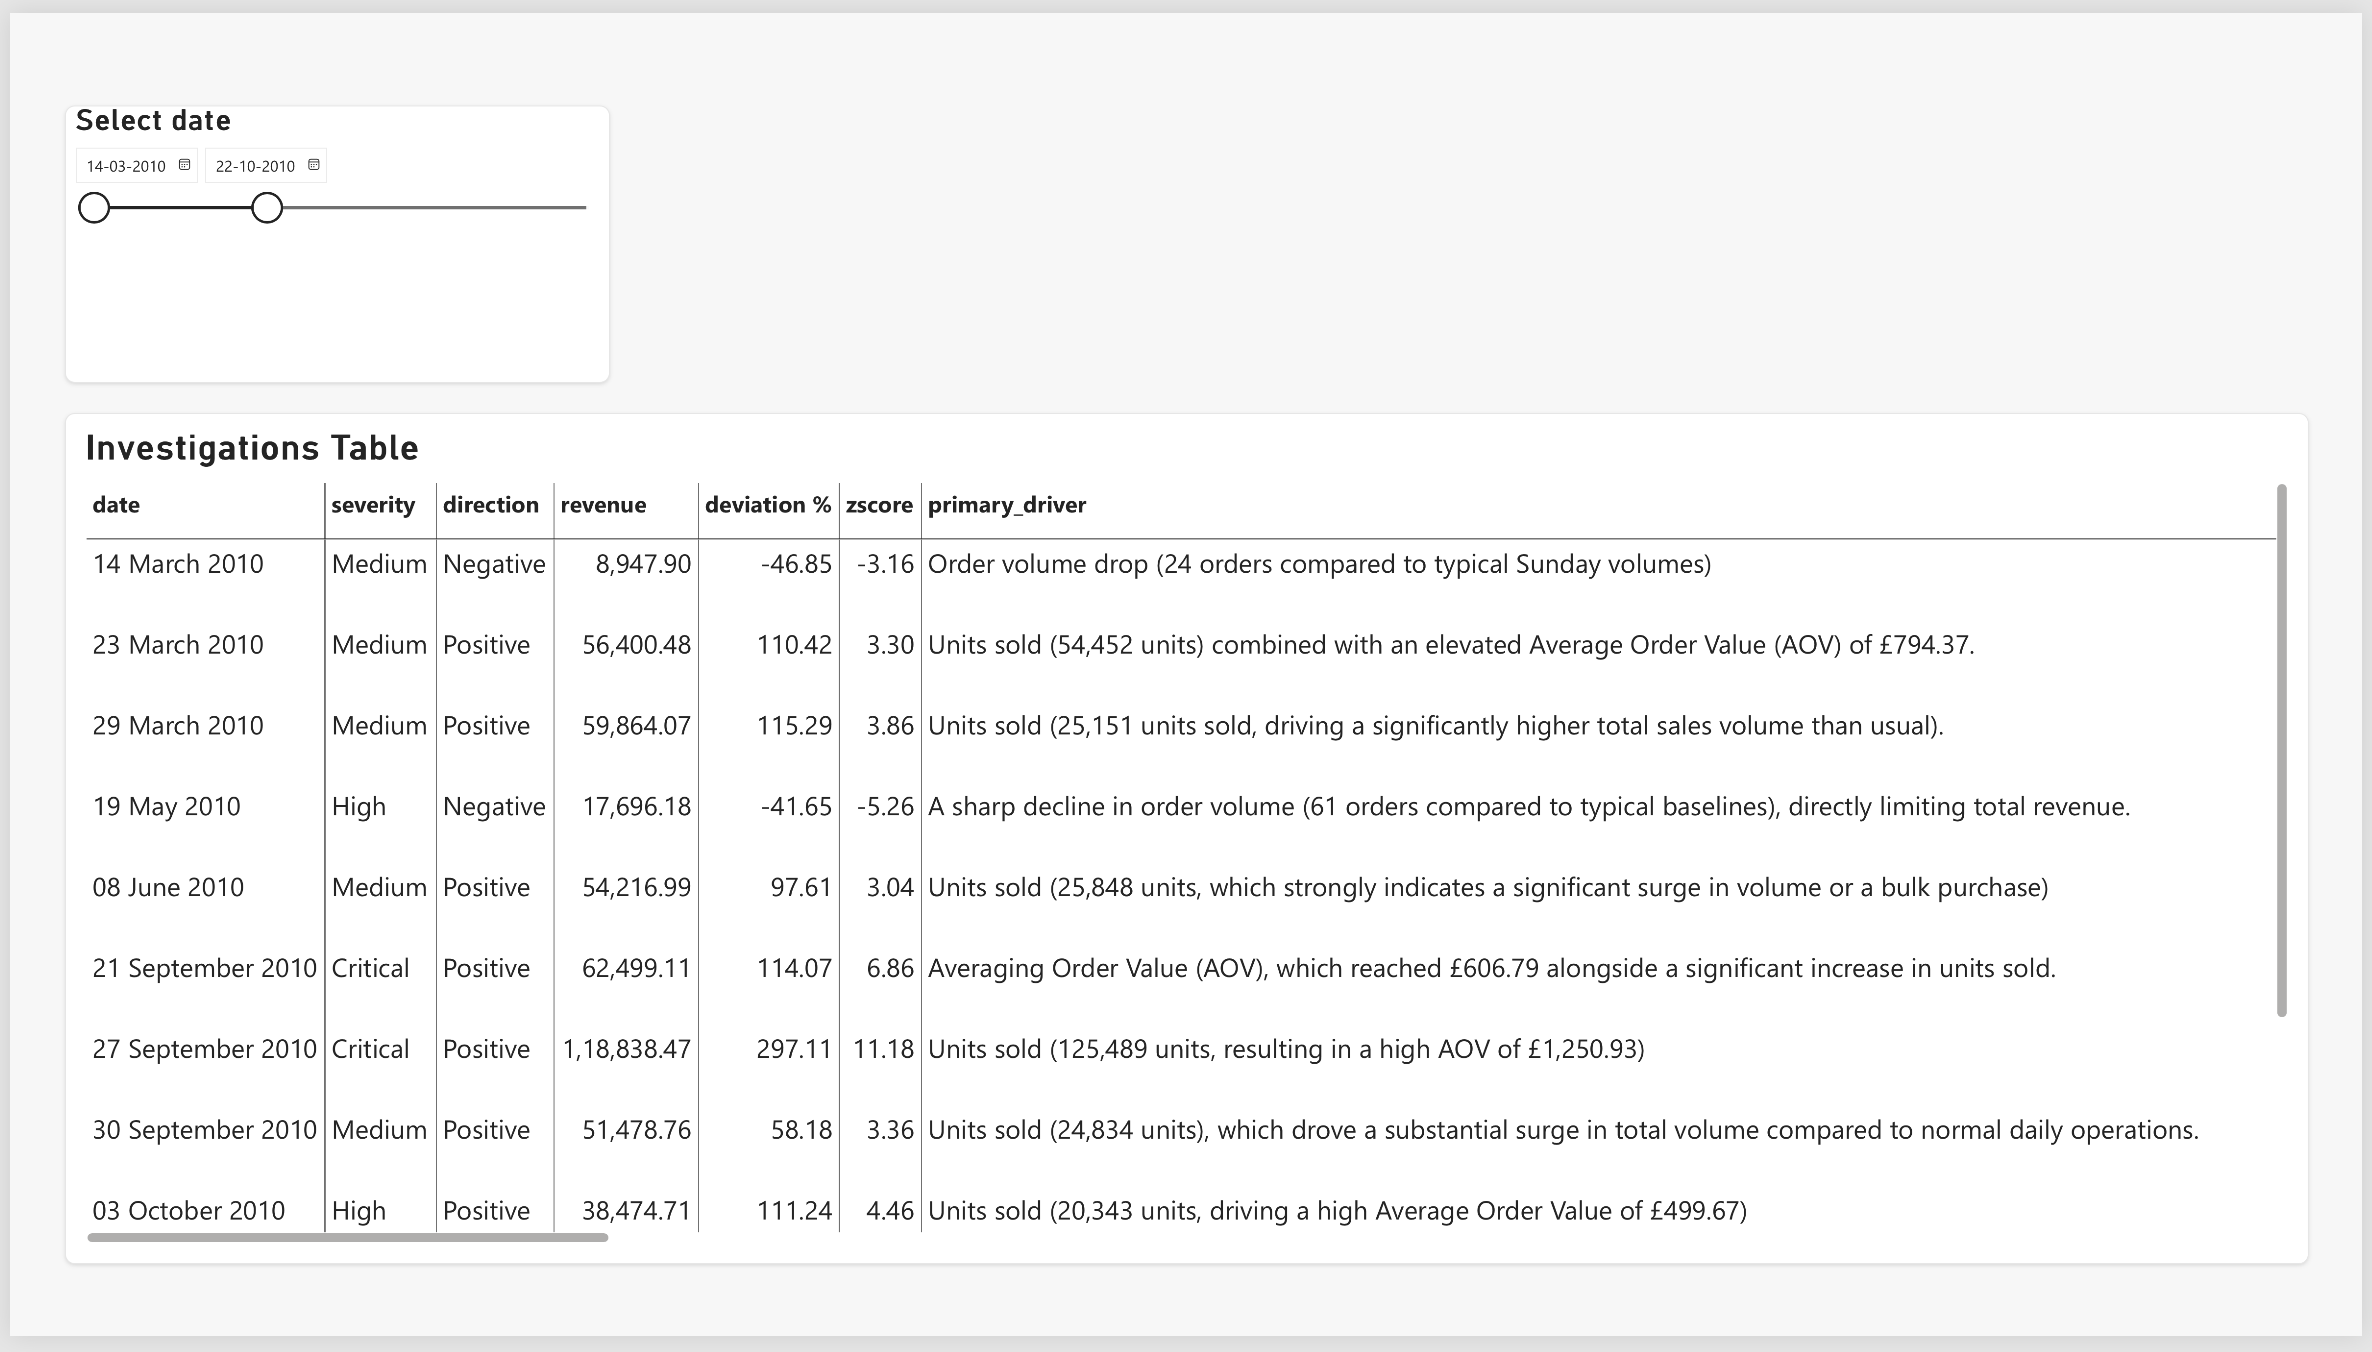

The page's visual inventory and layout, read from the dashboard file:
{"tool":"powerbi","page":{"name":"Page 2","canvas":[1920,1080],"ordinal":1},"visuals":[{"type":"slicer","fields":{"Values":["public insightwatch_dashboard.metric_date"]},"box":[44.7,76.3,444.7,226.3],"z":0},{"type":"tableEx","title":"Investigations Table","fields":{"Values":["public insightwatch_dashboard.metric_date","public insightwatch_dashboard.severity","public insightwatch_dashboard.anomaly_direction","public insightwatch_dashboard.revenue","public insightwatch_dashboard.revenue_deviation_pct","public insightwatch_dashboard.revenue_zscore","public insightwatch_dashboard.primary_driver","public insightwatch_dashboard.summary","public insightwatch_dashboard.return_signal","public insightwatch_dashboard.investigations"]},"box":[44.7,326.3,1831.6,694.7],"z":1000}]}

Visuals, with their boxes in screenshot pixels (x1, y1, x2, y2), scaled from the page's 1920x1080 canvas onto the 2372x1352 screenshot:
slicer - public insightwatch_dashboard.metric_date: <bbox>55, 96, 605, 379</bbox>
"Investigations Table" tableEx: <bbox>55, 408, 2318, 1278</bbox>
